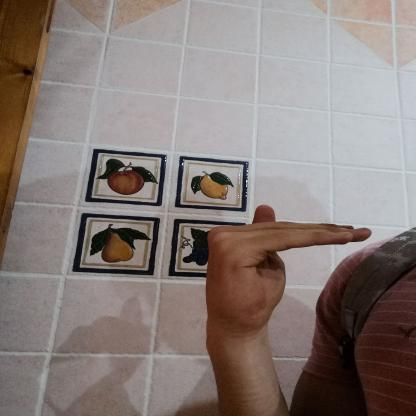KHAA: (189, 197, 388, 342)
